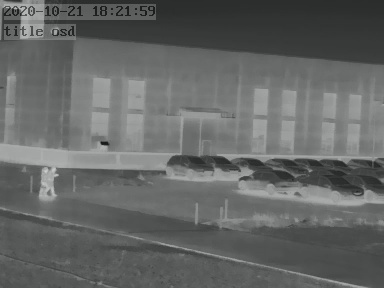person: (41, 162, 56, 198)
vehicle: (303, 172, 363, 203), (238, 168, 304, 193), (165, 153, 211, 179), (348, 173, 384, 200), (205, 153, 243, 177), (262, 155, 300, 171), (233, 155, 270, 171), (346, 157, 377, 170), (296, 156, 324, 169), (317, 157, 347, 169)
